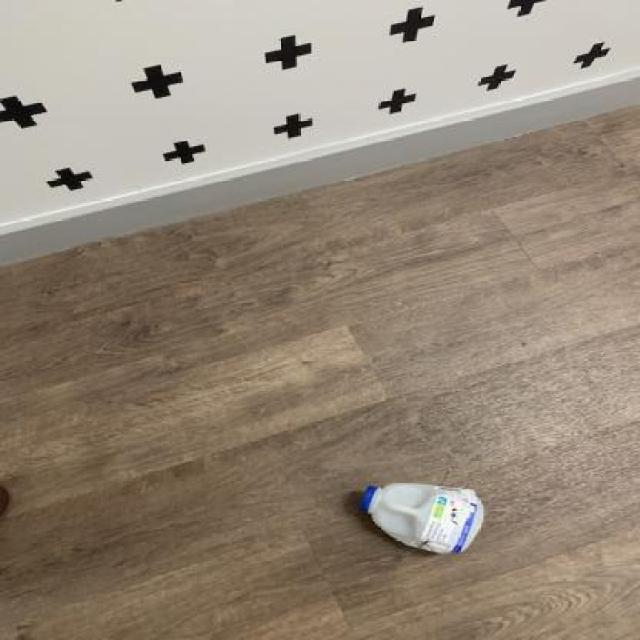trash: (348, 476, 501, 562)
